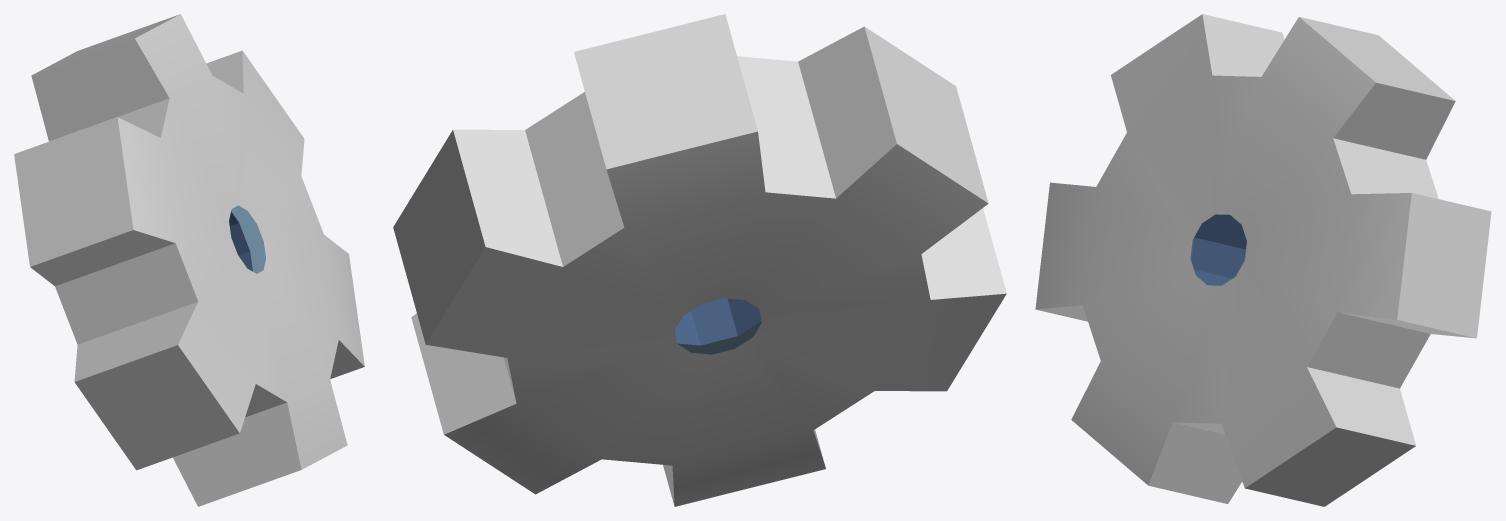
The model's file is TR_Pult.fbx.
3 views of the same model, side by side, from view 1: azimuth 30°, elevation 25°; view 2: azimuth 150°, elevation 25°; view 3: azimuth 270°, elevation 25° (orthographic). The views are drawn at different scales.
Parts seen in each view (by area): view 1: Stroke, Token; view 2: Stroke, Token; view 3: Stroke, Token.
Boxes of the visible parts, box(x1,y1,x2,y2) form: Stroke: box(14, 14, 364, 506); Token: box(229, 205, 265, 273); Stroke: box(393, 14, 1006, 506); Token: box(674, 298, 761, 354); Stroke: box(1035, 14, 1491, 506); Token: box(1190, 214, 1246, 285).
Bounding box in the file's own units: 120 × 128 × 118.
